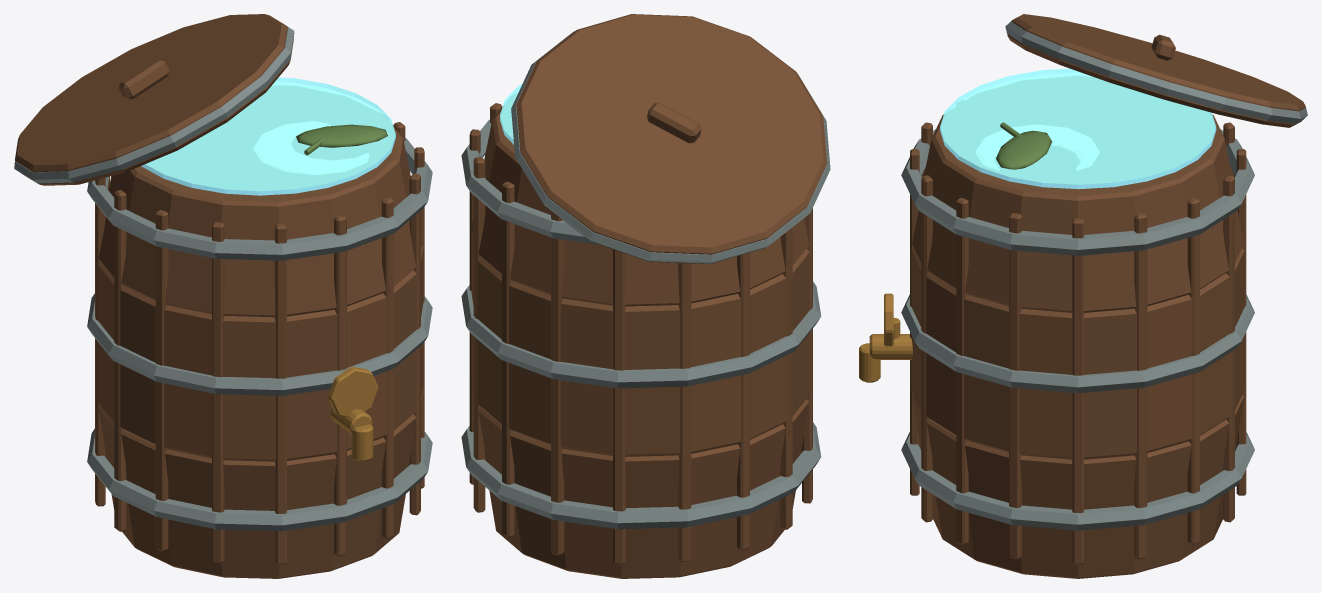
Rendered from MoonRainBarrel.glb.
The picture shows the model from 3 angles, left to right: view 1: azimuth 30°, elevation 25°; view 2: azimuth 150°, elevation 25°; view 3: azimuth 270°, elevation 25°; orthographic projection. The views are drawn at different scales.
Parts seen in each view (by area): view 1: MoonRainBarrel_Staves, MoonRainBarrel_Bands, MoonRainBarrel_Lid, MoonRainBarrel_Water, MoonRainBarrel_Tap, MoonRainBarrel_Leaf; view 2: MoonRainBarrel_Staves, MoonRainBarrel_Lid, MoonRainBarrel_Bands, MoonRainBarrel_Water; view 3: MoonRainBarrel_Staves, MoonRainBarrel_Bands, MoonRainBarrel_Water, MoonRainBarrel_Lid, MoonRainBarrel_Tap, MoonRainBarrel_Leaf.
Boxes of the visible parts, x1,y1,x2,y2 form: MoonRainBarrel_Staves: (95,122,424,578); MoonRainBarrel_Bands: (14,27,432,531); MoonRainBarrel_Lid: (15,14,293,185); MoonRainBarrel_Water: (141,77,395,195); MoonRainBarrel_Tap: (328,366,378,461); MoonRainBarrel_Leaf: (296,124,387,155); MoonRainBarrel_Staves: (469,103,812,578); MoonRainBarrel_Lid: (516,14,827,263); MoonRainBarrel_Bands: (461,31,830,529); MoonRainBarrel_Water: (500,83,522,144); MoonRainBarrel_Staves: (910,114,1246,578); MoonRainBarrel_Bands: (901,21,1307,530); MoonRainBarrel_Water: (940,68,1216,189); MoonRainBarrel_Lid: (1007,14,1305,127); MoonRainBarrel_Tap: (859,293,912,382); MoonRainBarrel_Leaf: (995,122,1052,169).
Bounding box in the file's own units: 0.7492 × 0.9853 × 0.8294.
